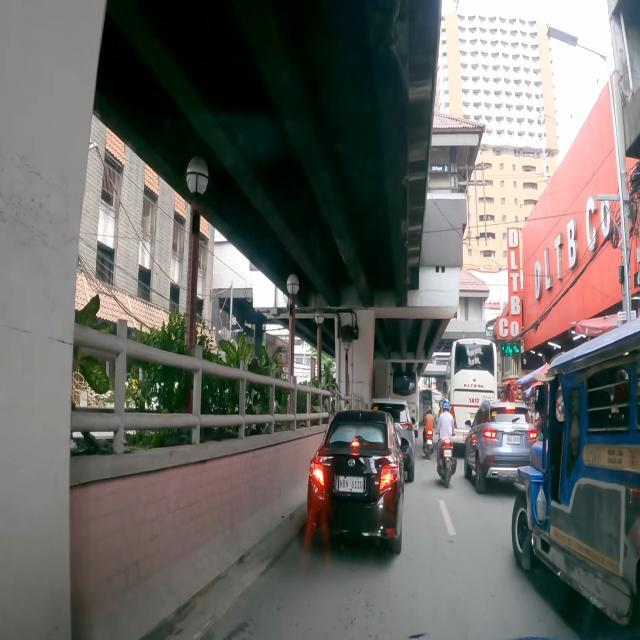bus: (444, 338, 498, 446), (388, 372, 419, 438), (420, 388, 442, 422)
car: (307, 406, 405, 556), (463, 401, 539, 494), (368, 396, 416, 482)
jeepney: (511, 316, 640, 640)
motorcycle: (434, 397, 458, 490), (422, 406, 435, 460)
